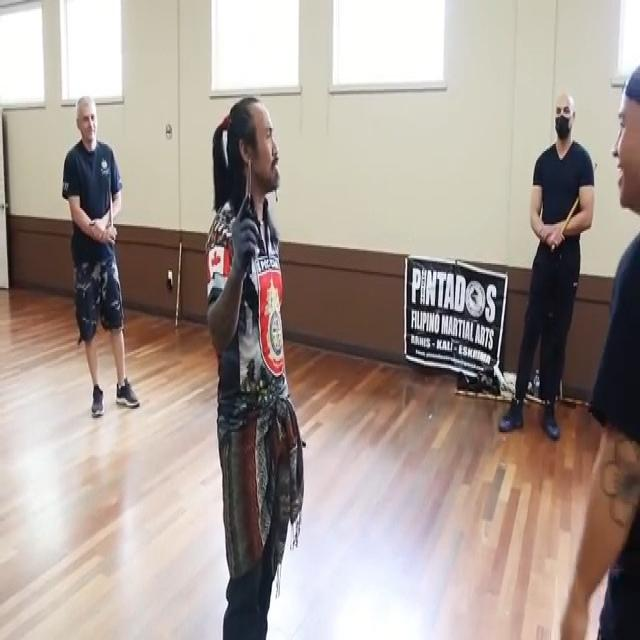Sharp-Object: (235, 161, 259, 278)
